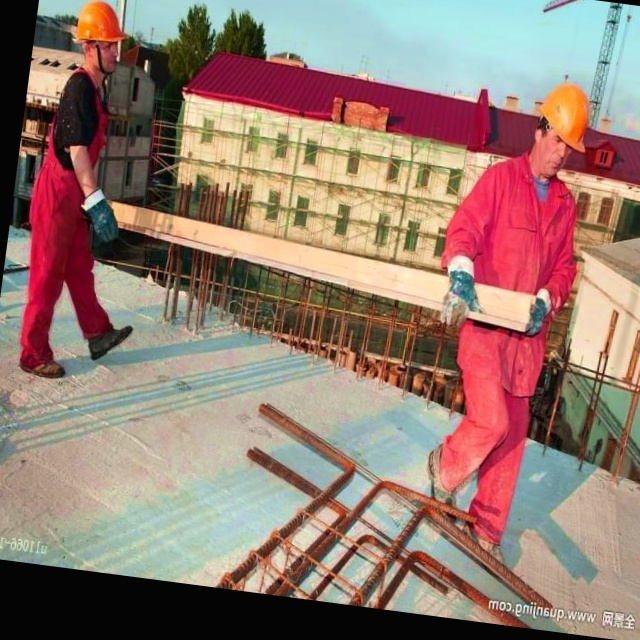Con_Casco: (529, 82, 593, 172), (72, 0, 125, 75)
Sin_Chaleco: (437, 169, 583, 385)
